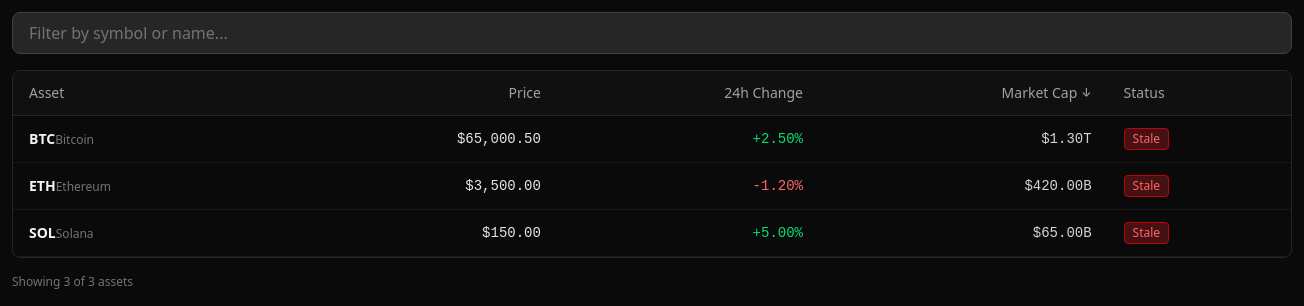
it: MarketTable › clears filter when clear button clicked
Type "btc" into the field with placeholder "Filter by symbol or name...".
click(652, 33); type("btc")  # box [12,12,1292,54]
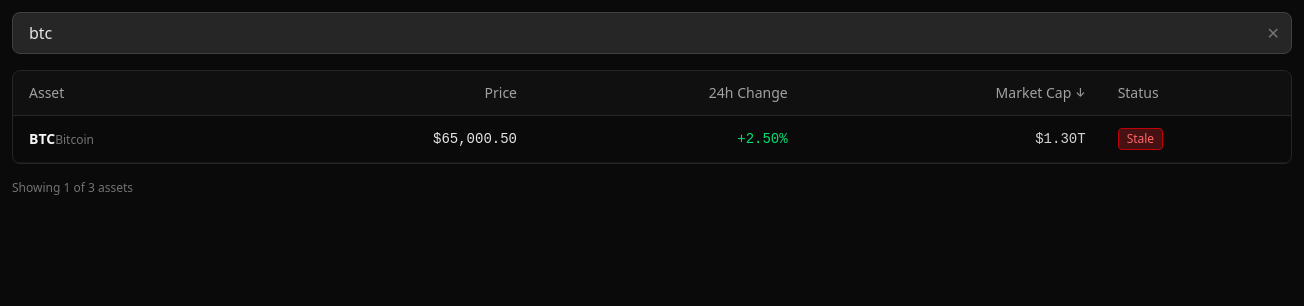
Click the button named "Clear filter".
click(1273, 33)  # box [1267,21,1280,45]
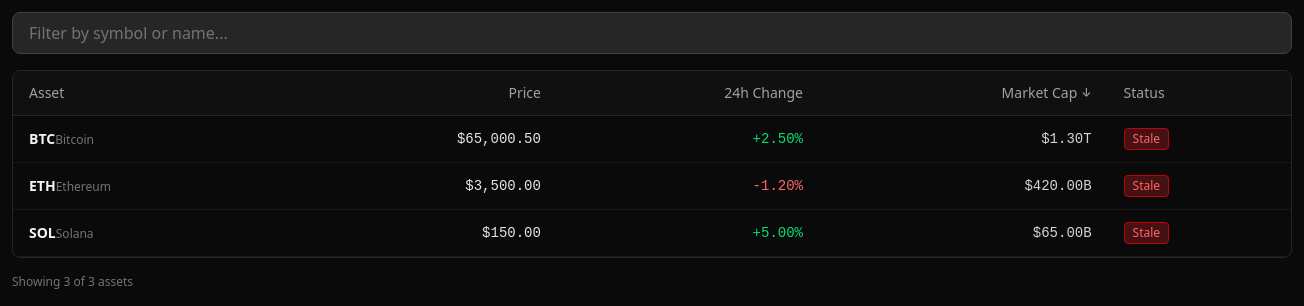
Expected: the text "BTC" is shown, [29,129,55,148]
Now the text "ETH" is shown, box [29,176,56,195]
Now the text "SOL" is shown, box [29,223,56,242]
